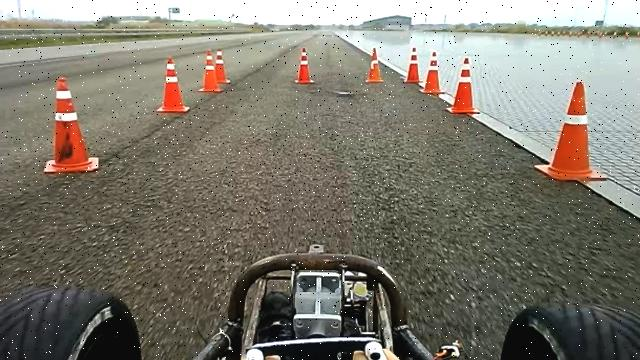red cone: (534, 80, 609, 182), (43, 76, 100, 173), (445, 57, 481, 114), (157, 57, 190, 113), (420, 51, 446, 94), (198, 49, 224, 92), (294, 46, 316, 84), (403, 46, 423, 84), (365, 47, 384, 83), (214, 48, 232, 83)
